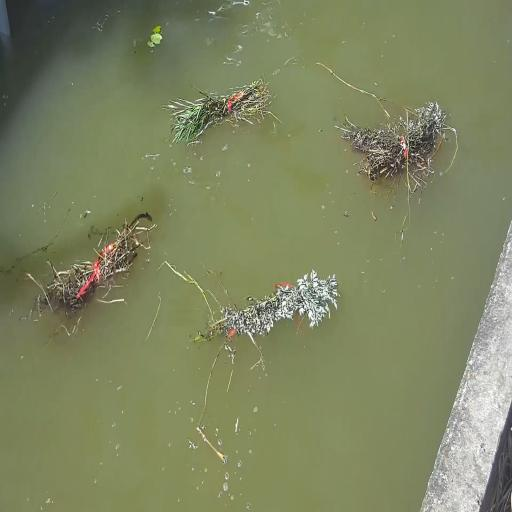twig: (203, 256, 338, 367), (332, 88, 452, 197), (34, 216, 143, 327), (159, 83, 276, 159), (132, 23, 164, 62)
